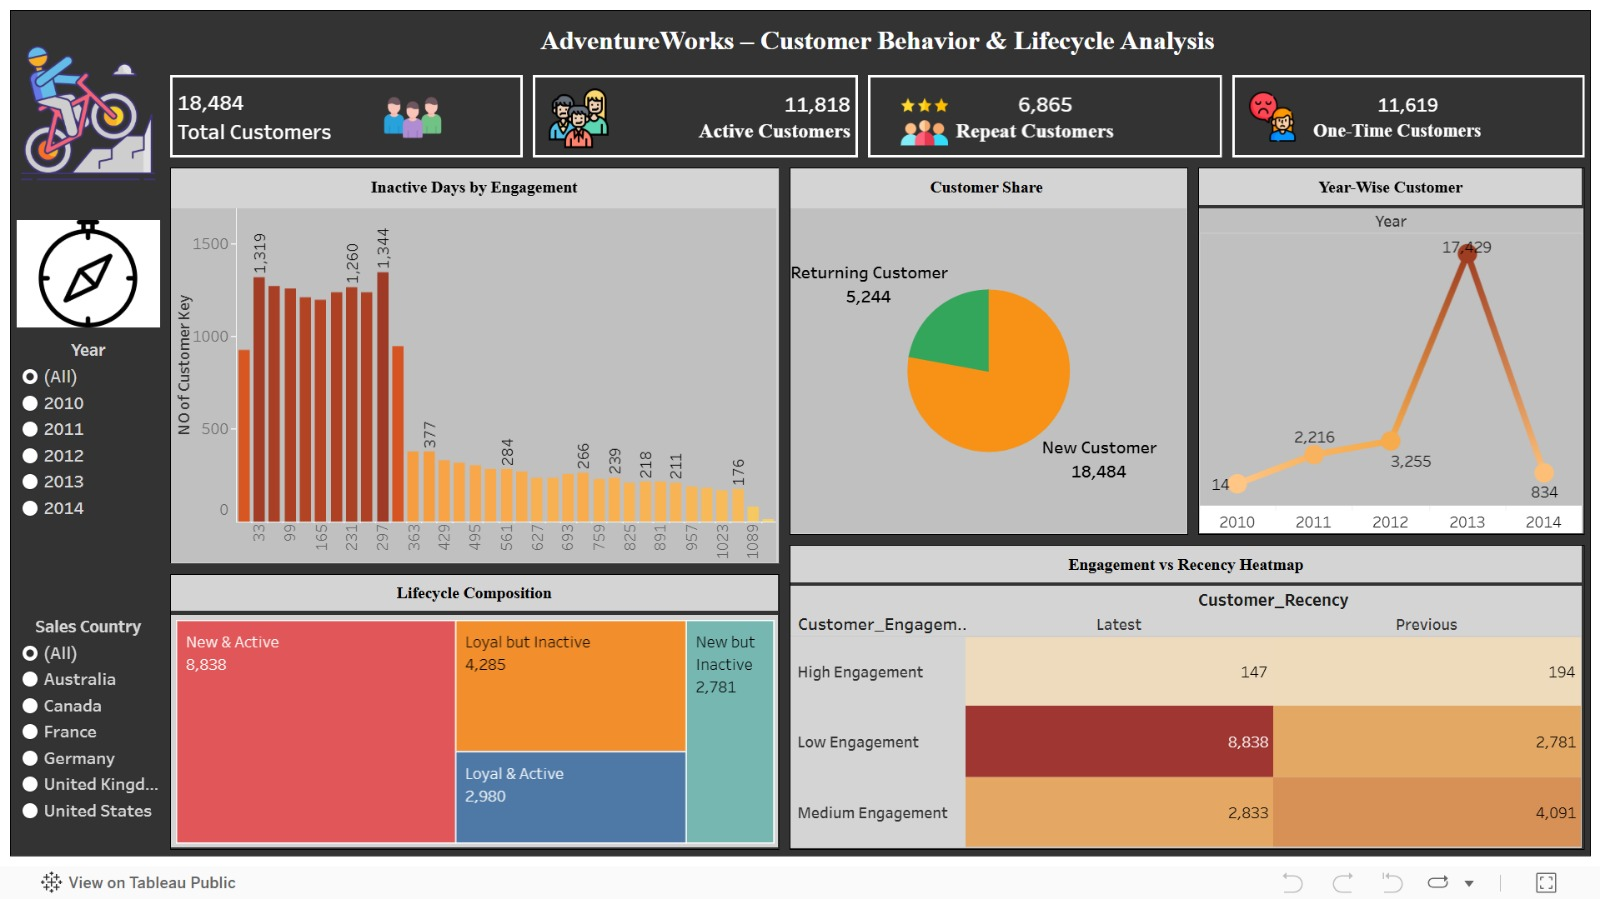

The page's visual inventory and layout, read from the dashboard file:
{"tool":"tableau","page":{"name":"Dashboard 1","canvas":[1000,1000],"units":"permille","ordinal":0},"visuals":[{"type":"image","param":"Image/cycling.png","box":[7.8,16.3,96,233.6]},{"type":"text","box":[103.8,16.3,888.5,66.8]},{"type":"worksheet","title":"First_KPI","mark":"Automatic","box":[103.8,83.1,218.8,107.4]},{"type":"worksheet","title":"Second_Kpi","mark":"Automatic","box":[322.6,83.1,232,107.4]},{"type":"worksheet","title":"Fourth Kpi","mark":"Automatic","box":[554.6,83.1,218.8,107.4]},{"type":"worksheet","title":"Third Kpi","mark":"Automatic","box":[773.4,83.1,218.8,107.4]},{"type":"image","param":"Image/end.png","box":[237.2,97.8,40.7,77.9]},{"type":"image","param":"Image/rating (1).png","box":[342,101.5,38.1,70.7]},{"type":"image","param":"Image/reaction.png","box":[779.2,105.1,31.2,70.7]},{"type":"image","param":"Image/customer-review.png","box":[562.8,112.3,29.4,56.2]},{"type":"worksheet","title":"5th chart","mark":"Bar","rows":["CustomerKey"],"cols":["Customer_tenure_days (bin)"],"box":[103.8,190.5,386.3,465]},{"type":"worksheet","title":"Sheet 22","mark":"Pie","box":[490.1,190.5,254.8,432.4]},{"type":"worksheet","title":"Sheet 19","mark":"Line","rows":["CustomerKey","CustomerKey"],"cols":["Calculation_1302668280004608"],"box":[744.9,190.5,247.3,432.4]},{"type":"dashboard-object","box":[7.8,249.9,96,134.1]},{"type":"filter","title":"5th chart","param":"[federated.0juong31d2545d12oi5dv0tnss1m].[none:Calculation_1302668280004608:ok]","box":[7.8,384,96,317.8]},{"type":"worksheet","title":"3 Chart","mark":"Square","rows":["Calculation_0652306442801164"],"cols":["Calculation_0652306438897675"],"box":[490.1,622.9,502.1,360.8]},{"type":"worksheet","title":"4th chart","mark":"Automatic","box":[103.8,655.5,386.3,328.2]},{"type":"filter","title":"5th chart","param":"[federated.0juong31d2545d12oi5dv0tnss1m].[none:SalesTerritoryCountry:nk]","box":[7.8,701.8,96,281.9]}]}

Visuals, with their boxes on the dashboard's canvas, which has no fixed pixel size, in thousandths of its width and height (x1, y1, x2, y2). These are canvas units, not pixel positions in the 1600x899 screenshot, which may show the page scaled, cropped or inside an application window:
image: 8:16:104:250
text: 104:16:992:83
"First_KPI" worksheet: 104:83:323:190
"Second_Kpi" worksheet: 323:83:555:190
"Fourth Kpi" worksheet: 555:83:773:190
"Third Kpi" worksheet: 773:83:992:190
image: 237:98:278:176
image: 342:102:380:172
image: 779:105:810:176
image: 563:112:592:168
"5th chart" worksheet (Bar marks): 104:190:490:656
"Sheet 22" worksheet (Pie marks): 490:190:745:623
"Sheet 19" worksheet (Line marks): 745:190:992:623
dashboard-object: 8:250:104:384
"5th chart" filter: 8:384:104:702
"3 Chart" worksheet (Square marks): 490:623:992:984
"4th chart" worksheet: 104:656:490:984
"5th chart" filter: 8:702:104:984
